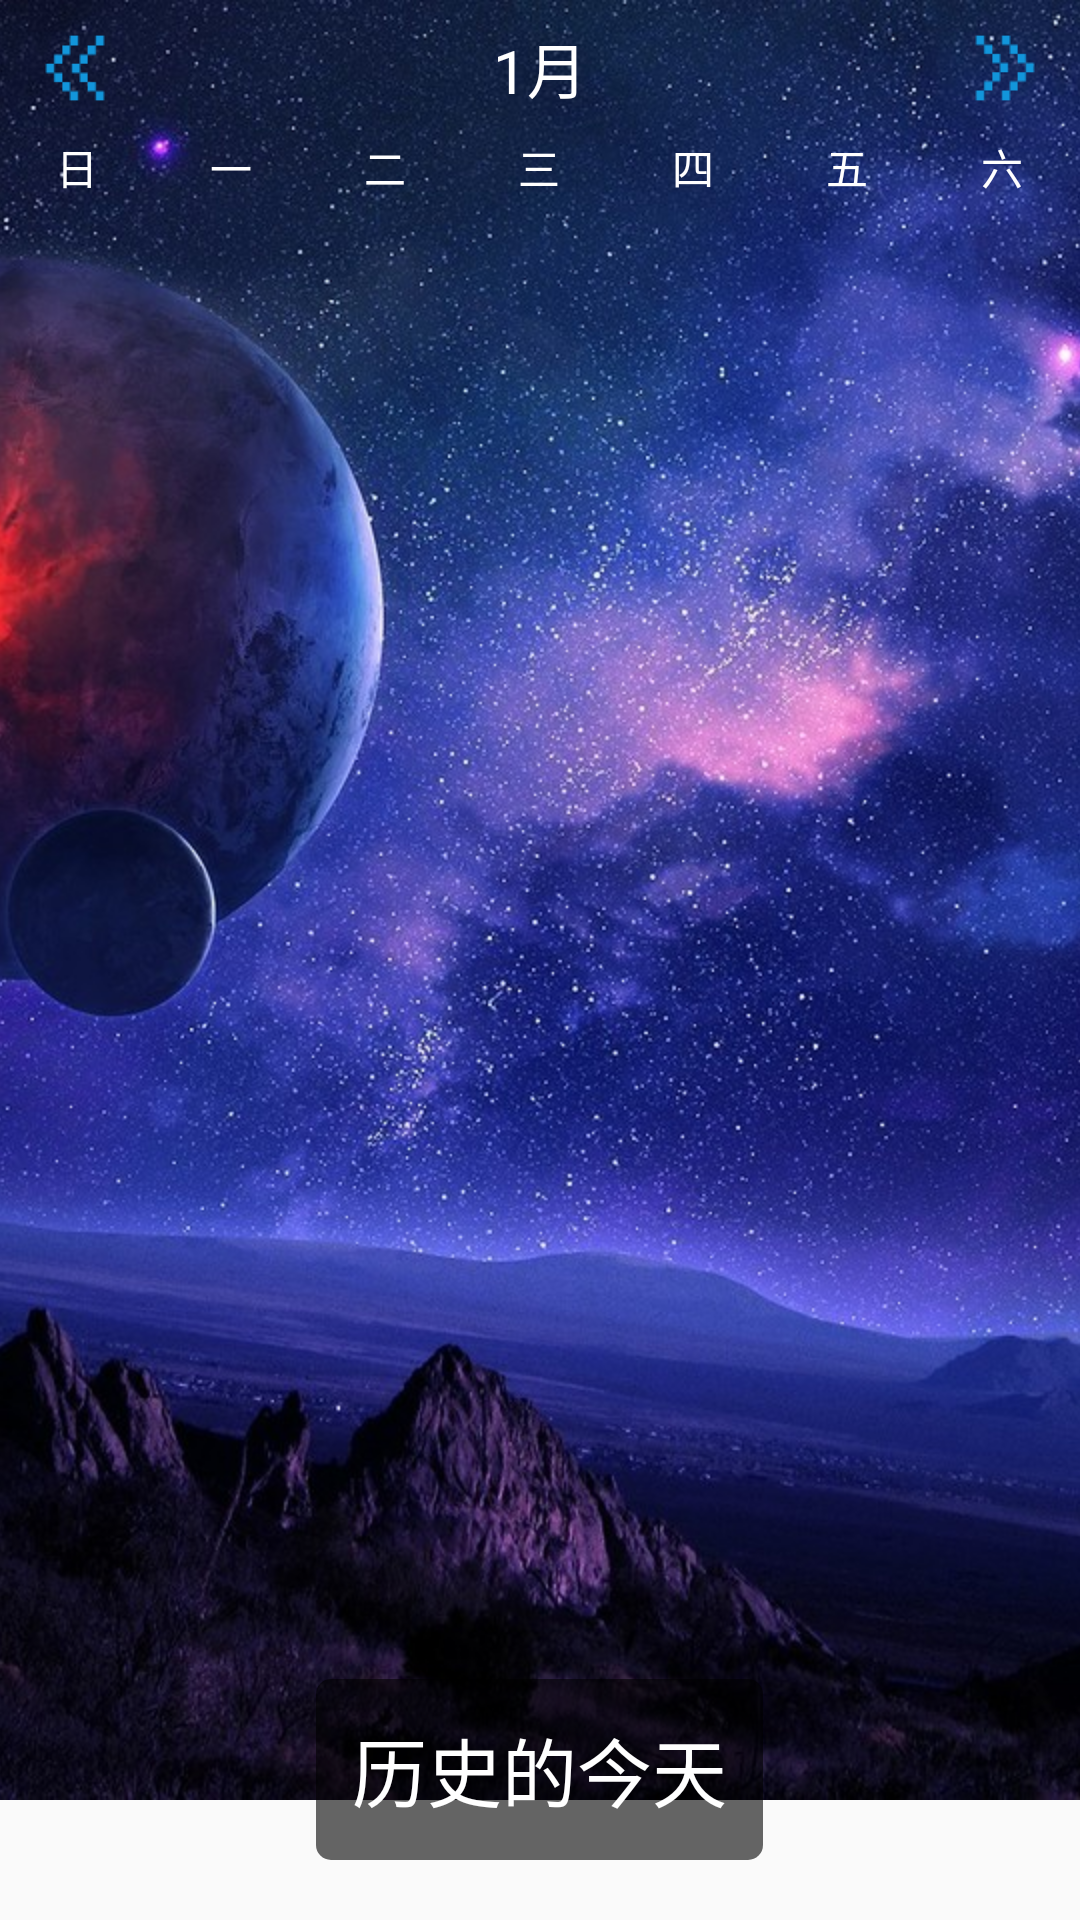

Icons on this 1080px×1920px Android screen, each with the point to tap as point (x, y):
arrows left: point (75, 68)
arrows right: point (1005, 68)
